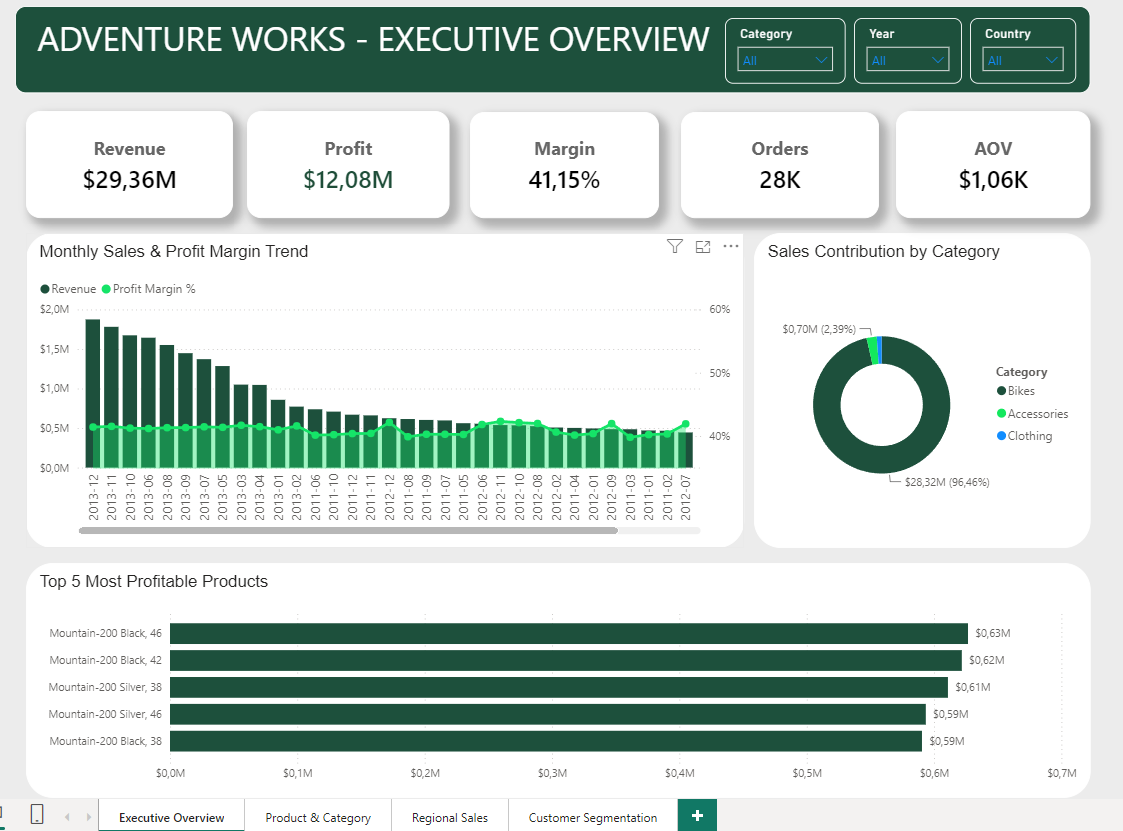

What the dashboard file says about the page in this screenshot:
{"tool":"powerbi","page":{"name":"Executive Overview","canvas":[1400,900],"ordinal":0},"visuals":[{"type":"textbox","box":[18,10,1195,97],"z":0},{"type":"cardVisual","fields":{"Data":["Sum(Fact_InternetSales.SalesAmount)"]},"box":[30,126.2,230,118.8],"z":1000},{"type":"cardVisual","fields":{"Data":["_Measures.Total Profit"]},"box":[275,126.2,225,118.8],"z":2000},{"type":"cardVisual","fields":{"Data":["_Measures.Profit Margin %"]},"box":[523.8,127.5,210,117.5],"z":3000},{"type":"cardVisual","fields":{"Data":["_Measures.Total Orders"]},"box":[757.5,127.5,220,117.5],"z":4000},{"type":"slicer","fields":{"Values":["Dim_Date.Year"]},"box":[950,23,120,73],"z":5000},{"type":"slicer","fields":{"Values":["Dim_Product.Category"]},"box":[807,23,134,73],"z":6000},{"type":"lineClusteredColumnComboChart","title":"Monthly Sales & Profit Margin Trend","fields":{"Category":["Dim_Date.YearMonth"],"Y":["_Measures.Revenue"],"Y2":["_Measures.Profit Margin %"]},"box":[30,262.5,797.5,350],"z":7000},{"type":"donutChart","title":"Sales Contribution by Category","fields":{"Category":["Dim_Product.Category"],"Y":["_Measures.Revenue"]},"box":[838.8,262.5,373.8,350],"z":8000},{"type":"clusteredBarChart","title":"Top 5 Most Profitable Products","fields":{"Category":["Dim_Product.ProductName"],"Y":["_Measures.Total Profit"]},"box":[30,628.8,1182.5,261.2],"z":9000},{"type":"cardVisual","fields":{"Data":["_Measures.AOV"]},"box":[996.2,126.2,216.2,118.8],"z":10000},{"type":"slicer","fields":{"Values":["Dim_Territory.Country"]},"box":[1079,23,117.5,72.5],"z":11000}]}

Visuals, with their boxes on the page's 1400x900 design canvas (x1, y1, x2, y2). These are canvas units, not pixel positions in the 1123x831 screenshot, which may show the page scaled, cropped or inside an application window:
textbox: (x1=18, y1=10, x2=1213, y2=107)
cardVisual - Sum(Fact_InternetSales.SalesAmount): (x1=30, y1=126, x2=260, y2=245)
cardVisual - _Measures.Total Profit: (x1=275, y1=126, x2=500, y2=245)
cardVisual - _Measures.Profit Margin %: (x1=524, y1=128, x2=734, y2=245)
cardVisual - _Measures.Total Orders: (x1=758, y1=128, x2=978, y2=245)
slicer - Dim_Date.Year: (x1=950, y1=23, x2=1070, y2=96)
slicer - Dim_Product.Category: (x1=807, y1=23, x2=941, y2=96)
"Monthly Sales & Profit Margin Trend" lineClusteredColumnComboChart: (x1=30, y1=262, x2=828, y2=612)
"Sales Contribution by Category" donutChart: (x1=839, y1=262, x2=1213, y2=612)
"Top 5 Most Profitable Products" clusteredBarChart: (x1=30, y1=629, x2=1212, y2=890)
cardVisual - _Measures.AOV: (x1=996, y1=126, x2=1212, y2=245)
slicer - Dim_Territory.Country: (x1=1079, y1=23, x2=1196, y2=96)
